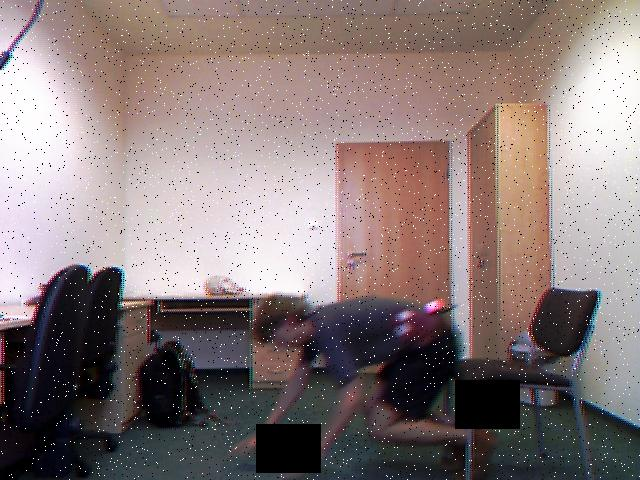near-fall: (232, 285, 514, 480)
